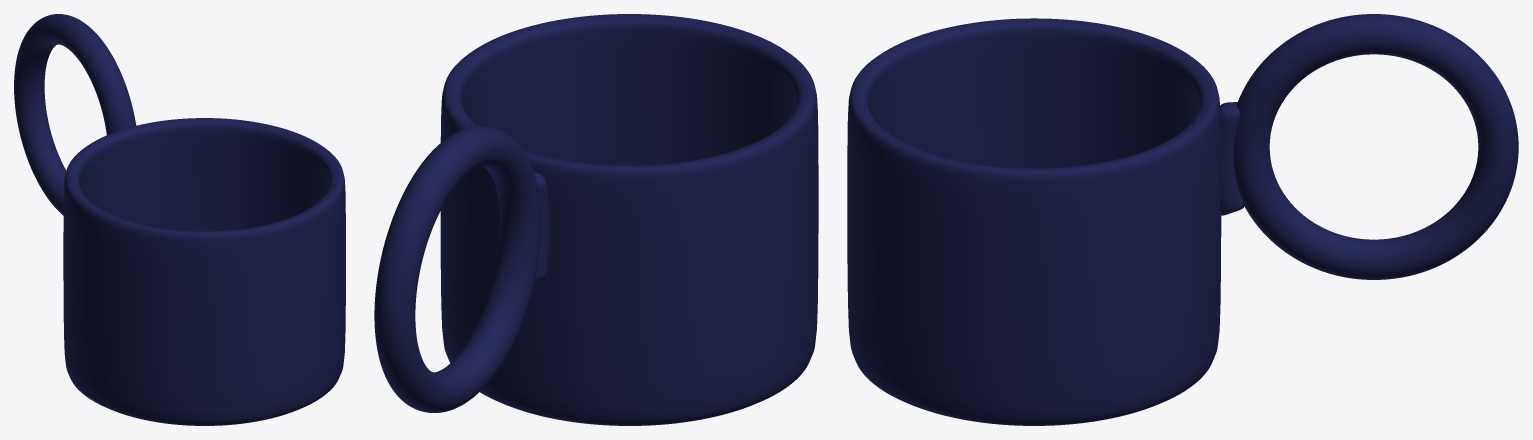
The model's file is mug_5.glb.
3 renders of one model, left to right at view 1: azimuth 30°, elevation 25°; view 2: azimuth 150°, elevation 25°; view 3: azimuth 270°, elevation 25°, orthographic. The views are drawn at different scales.
Parts seen in each view (by area): view 1: Cylinder; view 2: Cylinder; view 3: Cylinder.
Part boxes in pixels (x1=…): Cylinder: x1=14, y1=14, x2=345, y2=425; Cylinder: x1=374, y1=14, x2=818, y2=425; Cylinder: x1=847, y1=14, x2=1518, y2=425.
Bounding box in the file's own units: 1.99 × 1.98 × 3.57.
